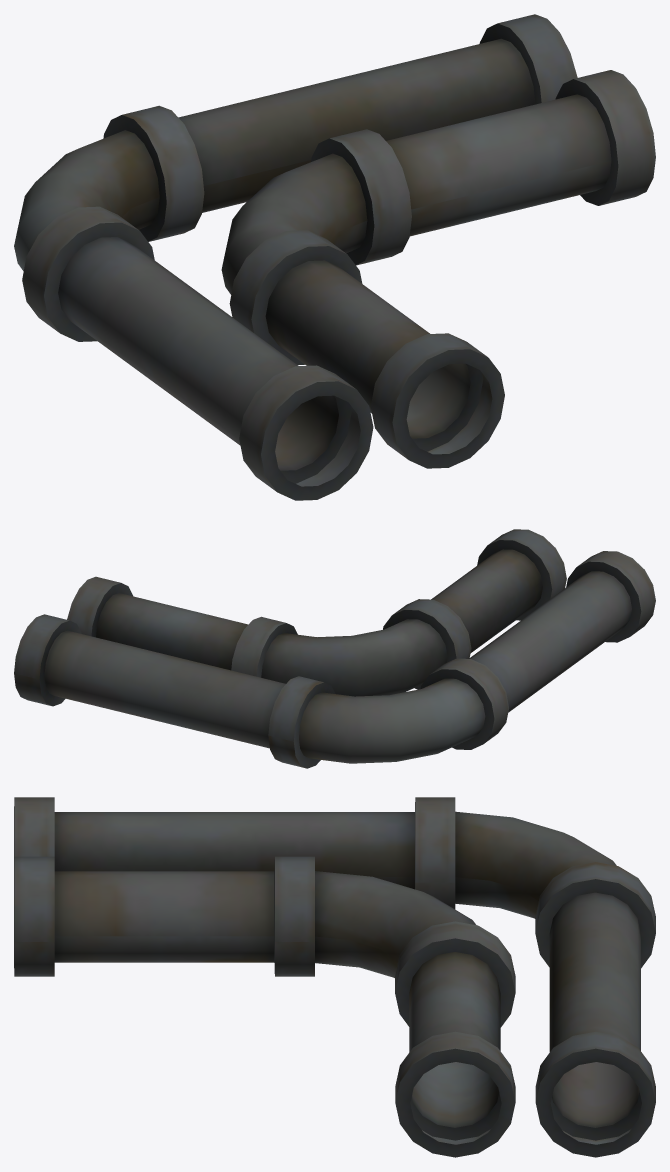
The model's file is props_hydro_2pipe_turn_90.glb.
The picture shows the model from 3 angles, top to bottom: view 1: azimuth 30°, elevation 25°; view 2: azimuth 150°, elevation 25°; view 3: azimuth 270°, elevation 25°; orthographic projection. The views are drawn at different scales.
Parts seen in each view (by area): view 1: models/props_hydro/2pipe_turn_90; view 2: models/props_hydro/2pipe_turn_90; view 3: models/props_hydro/2pipe_turn_90.
Boxes of the visible parts, x1,y1,x2,y2 form: models/props_hydro/2pipe_turn_90: (14,14,655,500); models/props_hydro/2pipe_turn_90: (14,529,655,768); models/props_hydro/2pipe_turn_90: (14,797,655,1157).
Bounding box in the file's own units: 32.01 × 6.01 × 32.01.
1 material, 1 textured.
